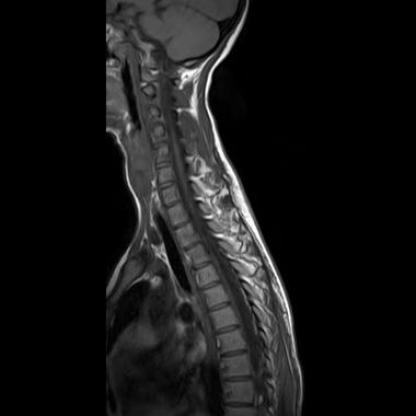Disc Bulgerotation: (153, 135, 168, 150)
